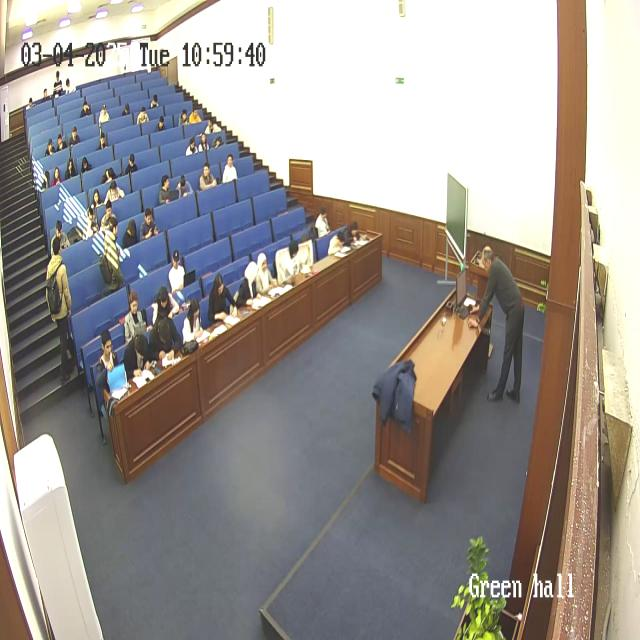person: (470, 244, 526, 404), (45, 236, 77, 380), (96, 331, 124, 413), (100, 213, 126, 289), (149, 313, 181, 368), (206, 273, 236, 325), (122, 291, 150, 345), (122, 335, 152, 382), (180, 300, 208, 348), (276, 238, 304, 283), (167, 251, 191, 303), (236, 260, 260, 308), (152, 284, 176, 326), (256, 251, 278, 295), (98, 202, 118, 244), (295, 237, 315, 274), (87, 188, 103, 232), (116, 217, 138, 248), (140, 209, 160, 242), (51, 219, 70, 253), (327, 227, 347, 257), (313, 207, 331, 239), (344, 221, 364, 248), (105, 180, 125, 207), (158, 175, 176, 205), (199, 163, 217, 191), (222, 155, 238, 184), (175, 173, 192, 200), (205, 115, 221, 137), (126, 153, 140, 176), (68, 126, 82, 148), (185, 135, 199, 157), (79, 156, 93, 177), (135, 106, 149, 127), (65, 156, 77, 180), (188, 104, 202, 124), (199, 131, 212, 152), (52, 164, 64, 186), (53, 69, 63, 95), (98, 130, 110, 150), (44, 137, 56, 156), (98, 107, 110, 126), (178, 111, 190, 130), (80, 100, 92, 118), (155, 116, 167, 132), (56, 133, 66, 152), (63, 77, 73, 95), (150, 94, 160, 110), (41, 88, 51, 103), (27, 96, 36, 111), (120, 104, 131, 116)
